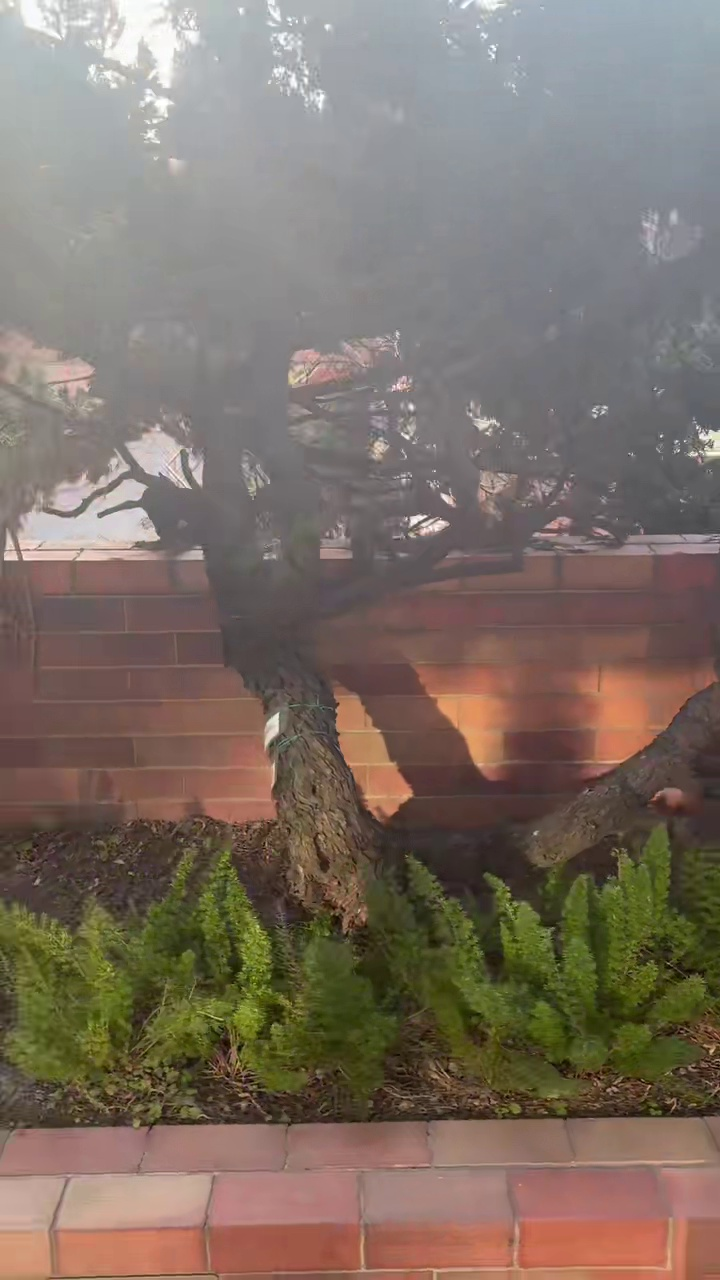Juniperus chinensis: (0, 0, 719, 926)
